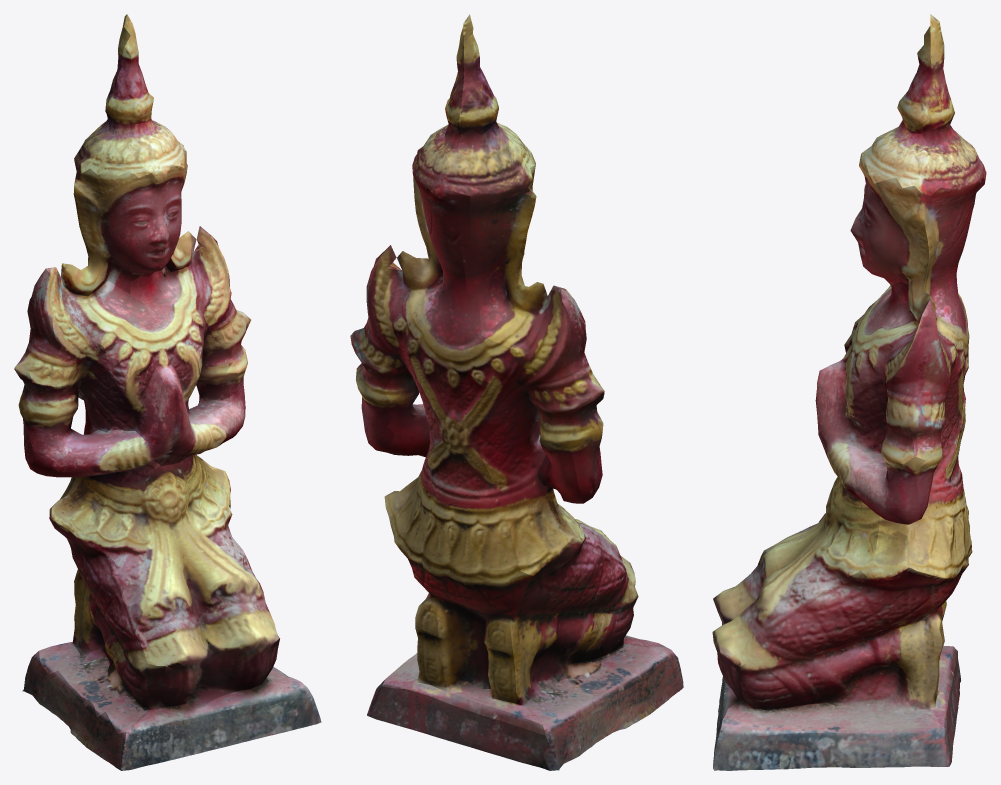
Rendered from Thai_Temple_Guardian.obj.
The picture shows the model from 3 angles, left to right: view 1: azimuth 30°, elevation 25°; view 2: azimuth 150°, elevation 25°; view 3: azimuth 270°, elevation 25°; orthographic projection. The views are drawn at different scales.
Visible parts, largest first — view 1: Object_0; view 2: Object_0; view 3: Object_0.
Boxes of the visible parts, x1,y1,x2,y2 form: Object_0: (14,14,321,770); Object_0: (350,14,683,770); Object_0: (712,14,986,770).
Bounding box in the file's own units: 16.3 × 43.93 × 15.3.
Materials: 1 (1 with a texture image).
